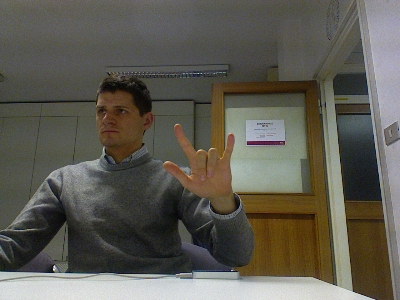我爱你: (162, 123, 235, 198)
